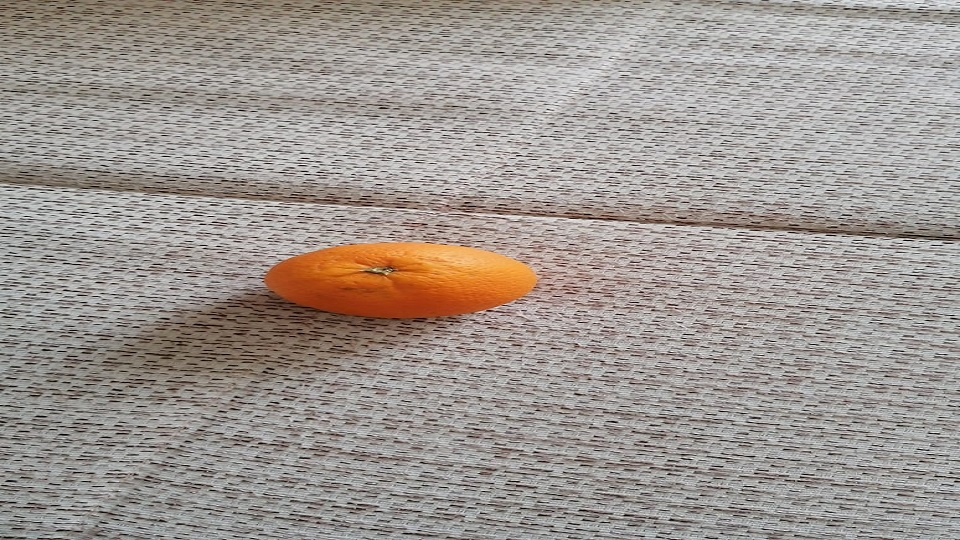portakal: (263, 241, 538, 320)
